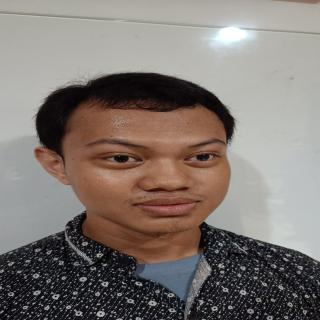Takut: (51, 92, 243, 241)
